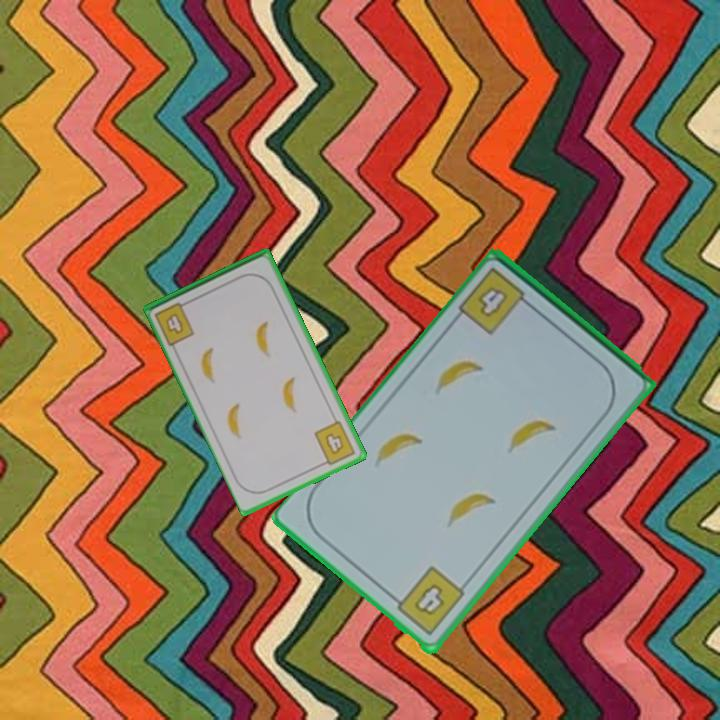4b: (387, 563, 468, 640), (455, 264, 538, 339), (311, 417, 358, 469), (151, 297, 198, 348)
